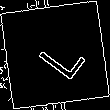L_NW: (25, 27, 85, 83)
